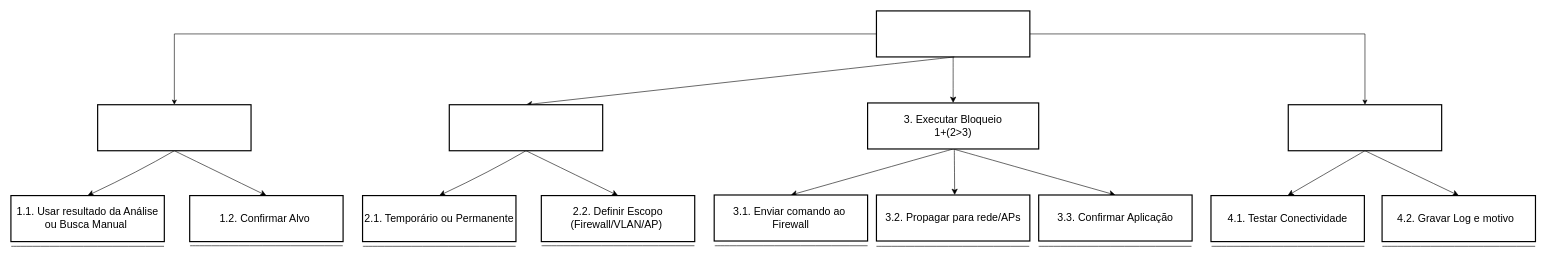
This 1546x257 diagram has some shape labels left out. Each missing label, with the centre of its shape:
"0. Banir dispositivo da Rede 1>2>3>4" belongs at point (953, 33).
"1. Selecionar Alvo 1>2" belongs at point (174, 127).
"2. Definir Política de Bloqueio 1>2" belongs at point (525, 127).
"4. Verificar/Registrar 1+2" belongs at point (1364, 127).
